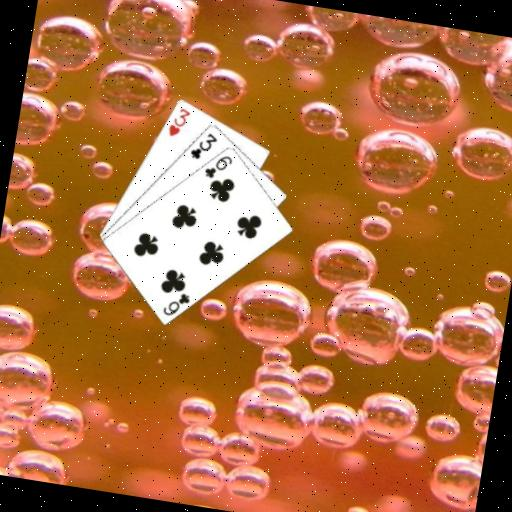3C: (186, 127, 220, 163)
3H: (164, 103, 192, 140)
6C: (200, 149, 234, 182), (159, 286, 192, 319)
